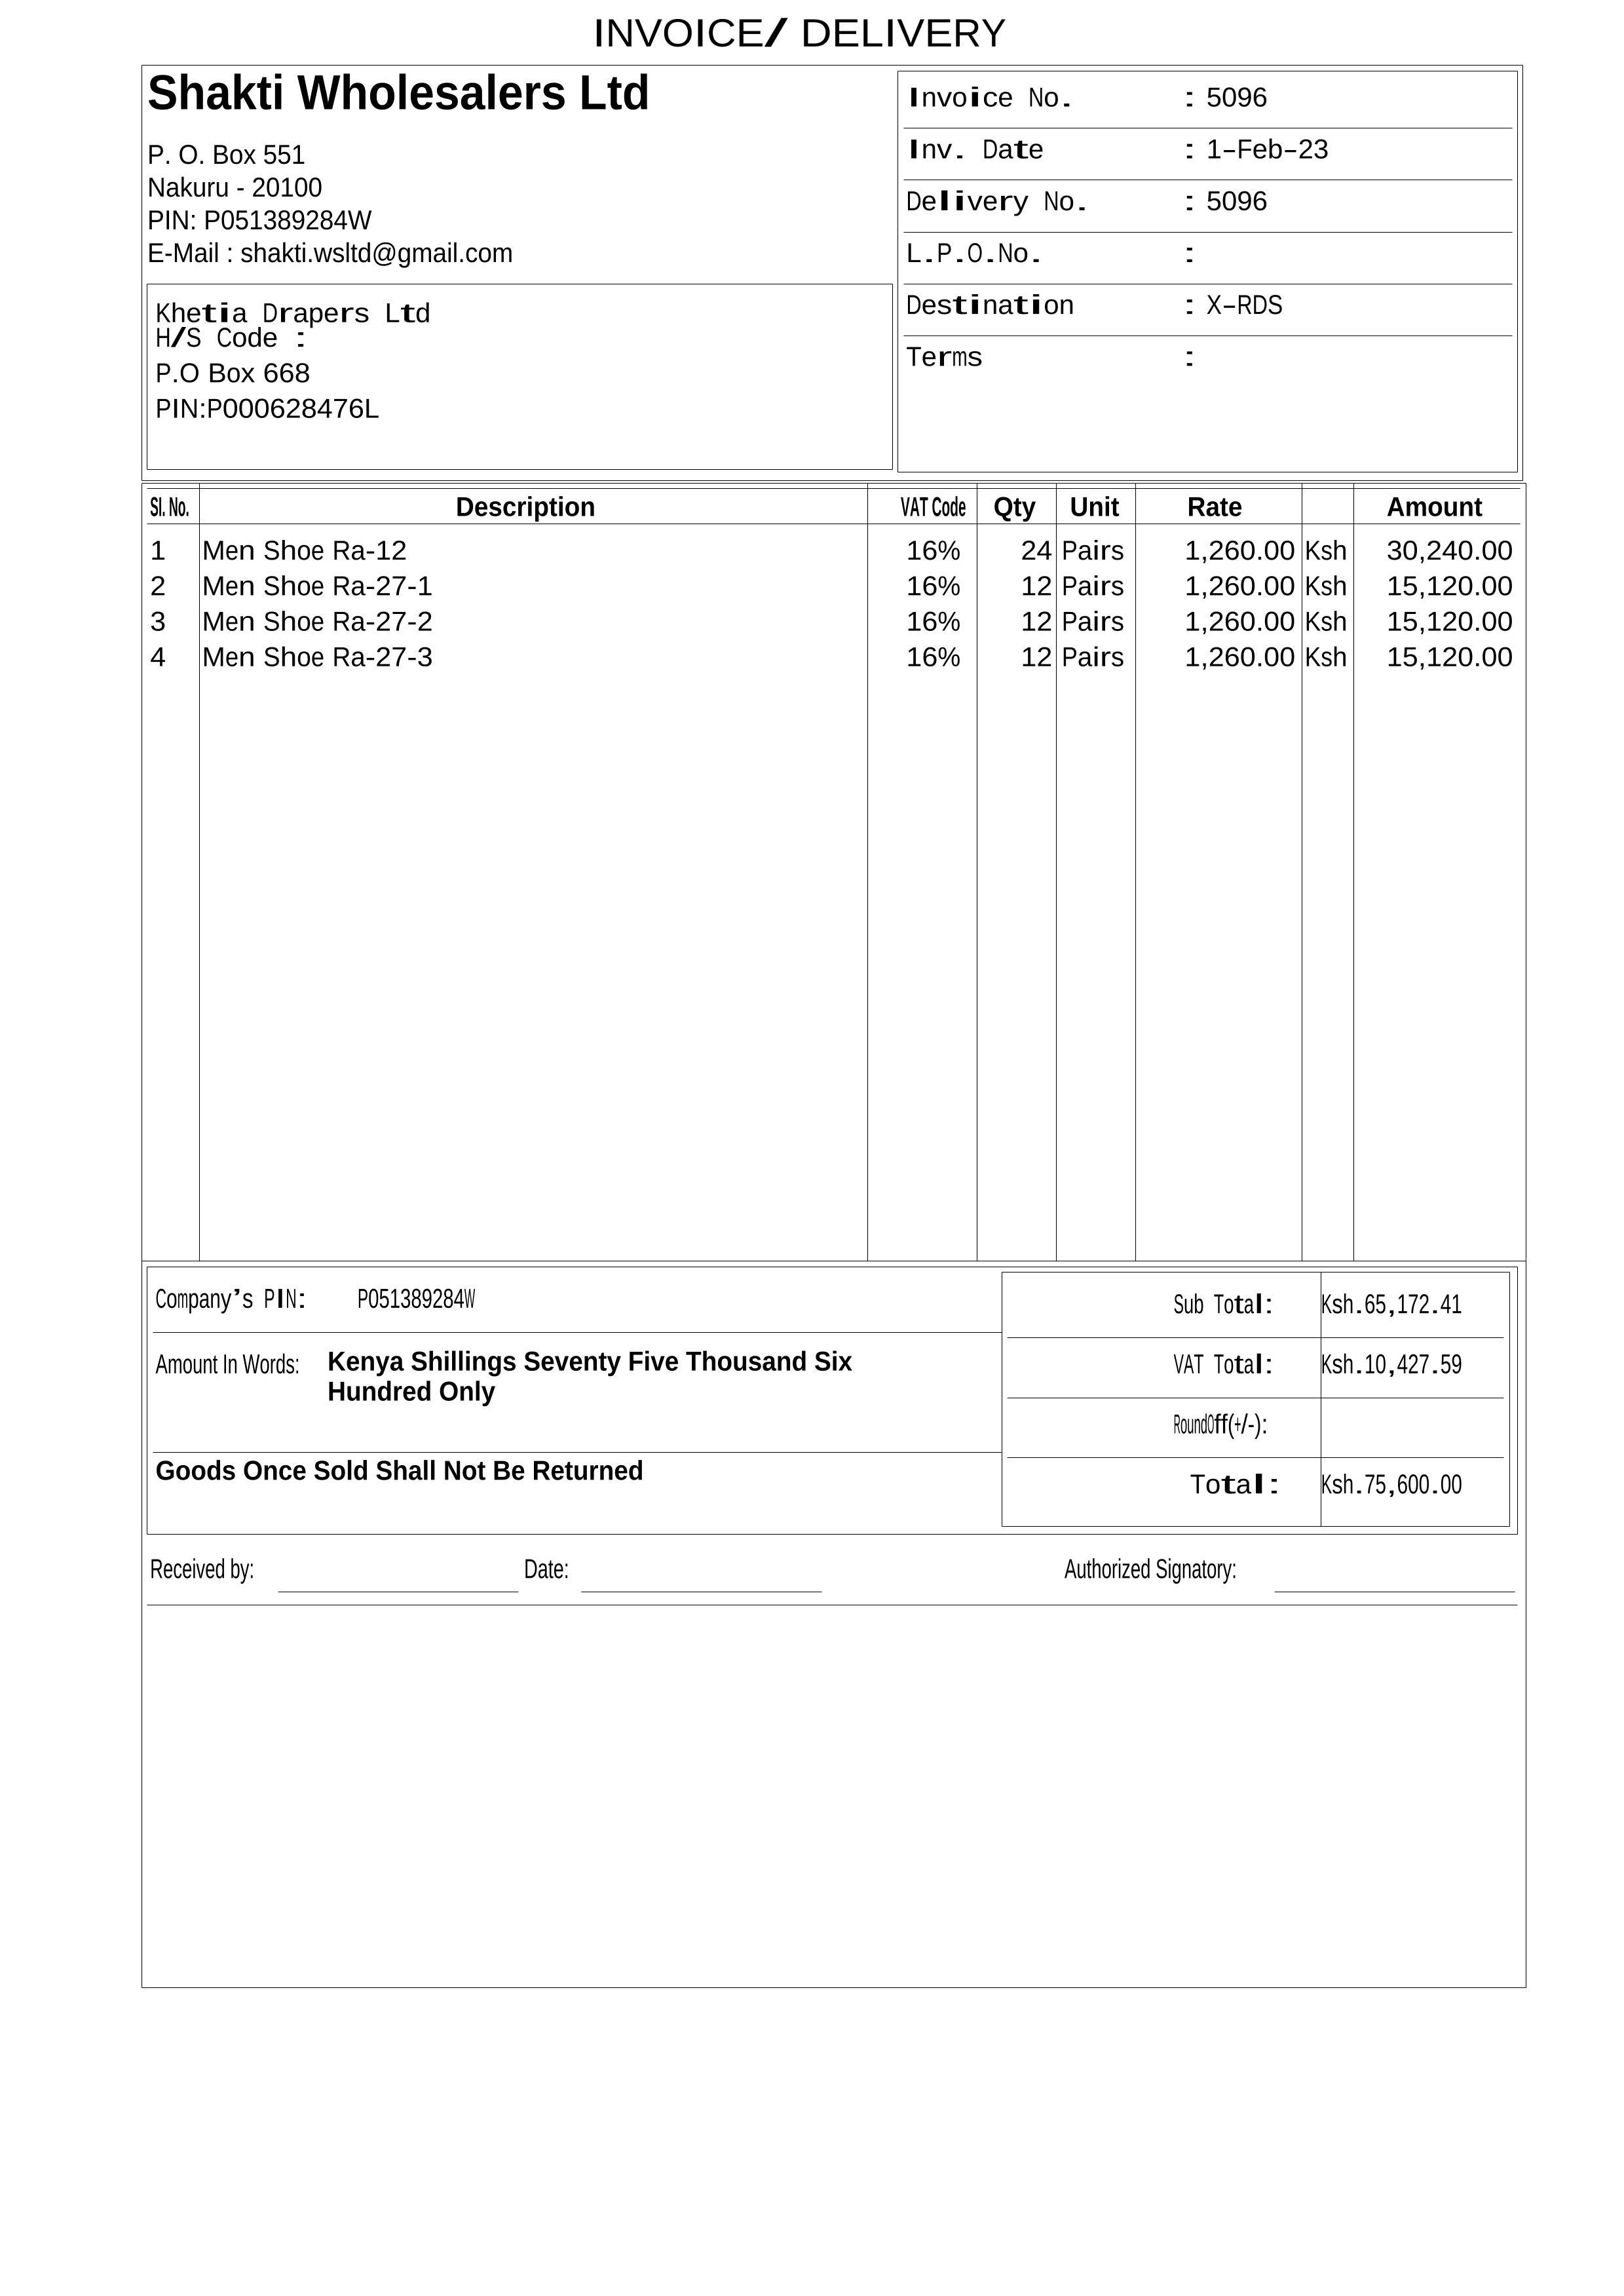InvoiceDate: (1204, 130, 1332, 172)
InvoiceNumber: (1199, 77, 1294, 118)
TotalAmount: (1322, 1459, 1473, 1508)
